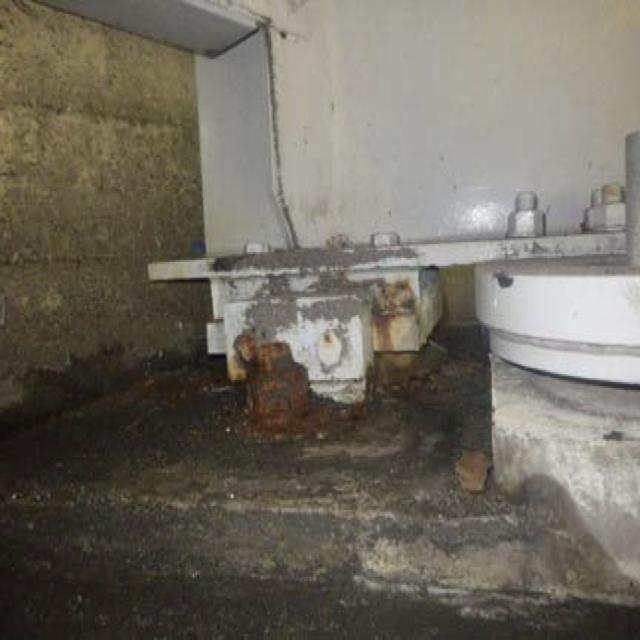corrosion: (206, 304, 381, 462)
